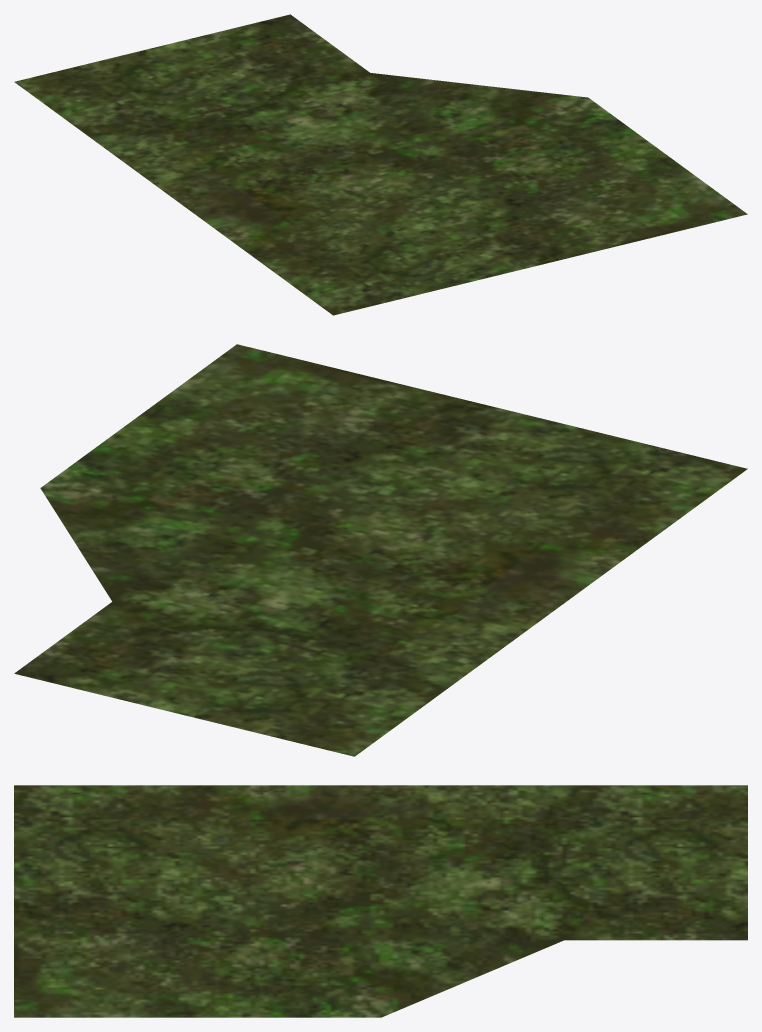
The model's file is OVERHILL_A_01_LINE172.fbx.
3 views of the same model, one above another, from view 1: azimuth 30°, elevation 25°; view 2: azimuth 150°, elevation 25°; view 3: azimuth 270°, elevation 25° (orthographic). The views are drawn at different scales.
Parts seen in each view (by area): view 1: OVERHILL_A_01_LINE172; view 2: OVERHILL_A_01_LINE172; view 3: OVERHILL_A_01_LINE172.
Boxes of the visible parts, left/top/right/bottom form: OVERHILL_A_01_LINE172: left=14, top=14, right=747, bottom=315; OVERHILL_A_01_LINE172: left=14, top=344, right=747, bottom=756; OVERHILL_A_01_LINE172: left=14, top=785, right=747, bottom=1017.
Size of the model in its own units: 30000 by 0.00652 by 40000.
1 material, 1 textured.
